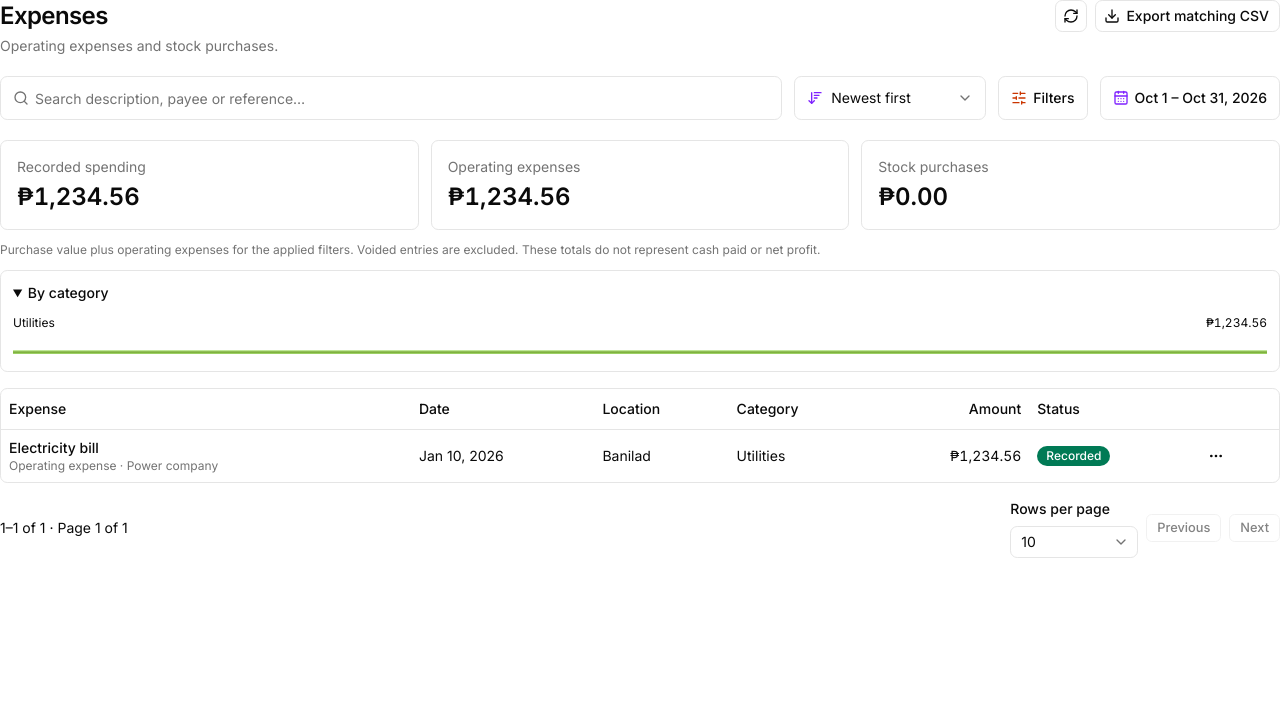
Test: Expenses workspace › omits location filtering and breakdown for branch-only users
expect the text "Electricity bill" is shown: met, box [9, 438, 99, 456]
Click the button "Filters".
click(1043, 98)  # box [998, 76, 1088, 120]
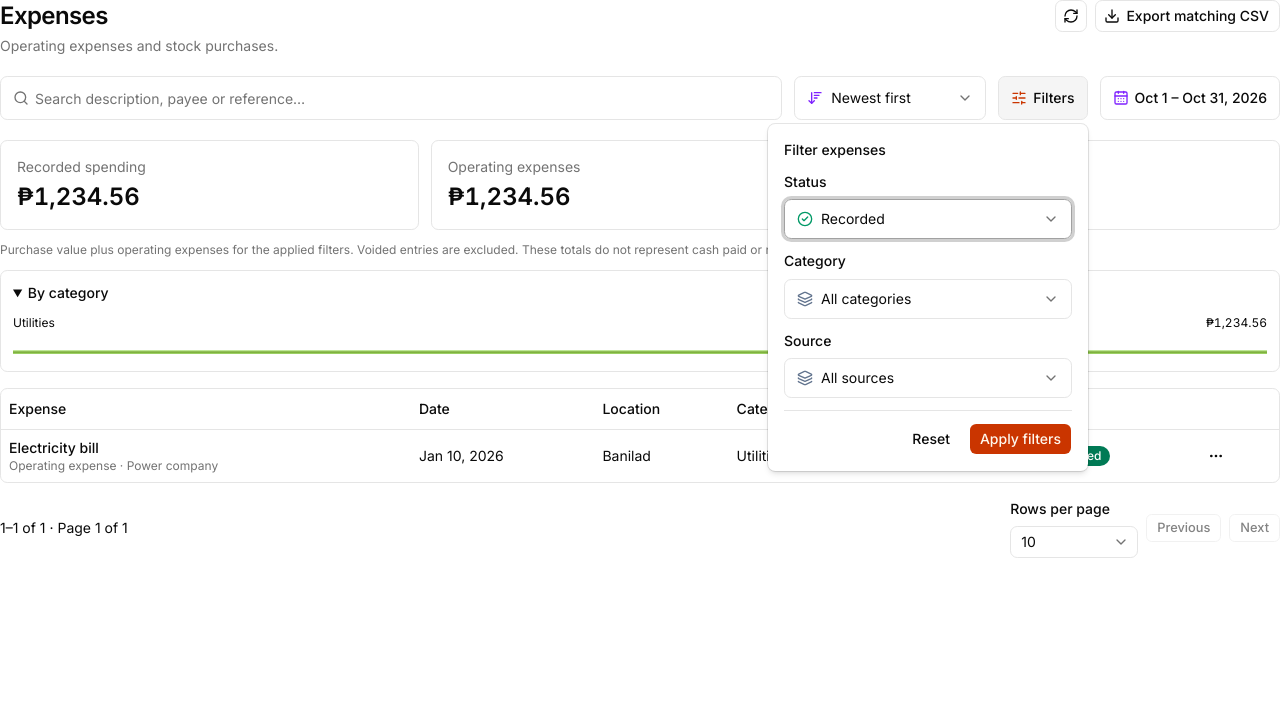
expect the dropdown named "Status" is shown: met, box [784, 199, 1072, 239]
expect the dropdown named "Category" is shown: met, box [784, 278, 1072, 318]
expect the dropdown labelled "source" is shown: met, box [784, 358, 1072, 398]
